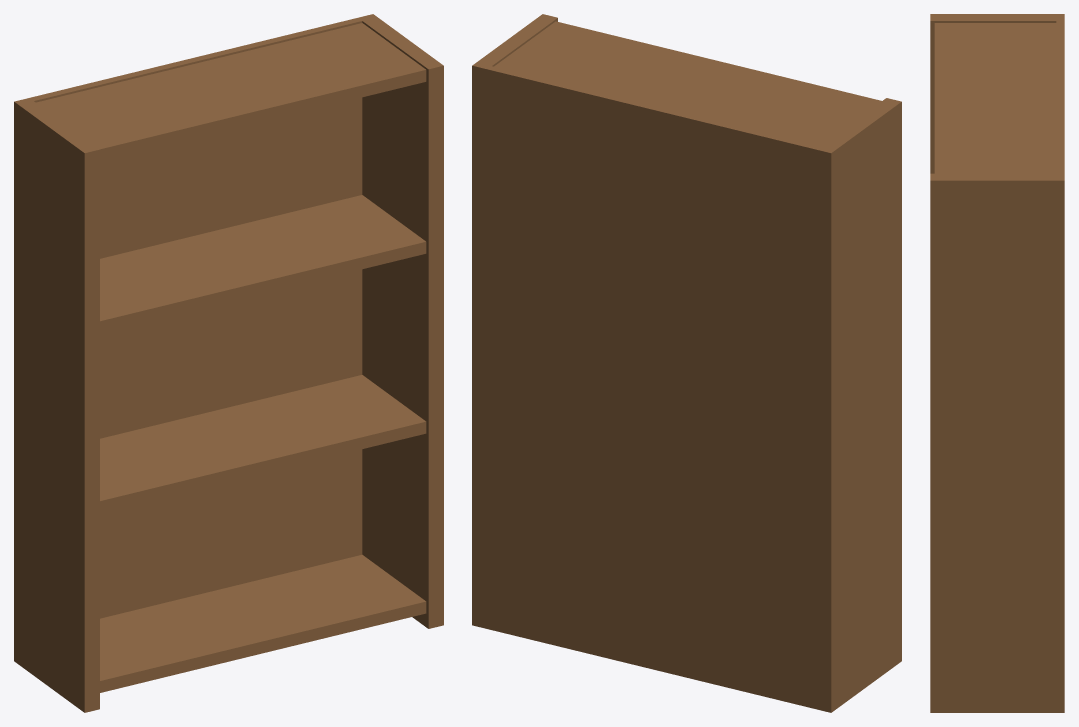
Rendered from deco_shelf_light.glb.
3 renders of one model, left to right at view 1: azimuth 30°, elevation 25°; view 2: azimuth 150°, elevation 25°; view 3: azimuth 270°, elevation 25°, orthographic. The views are drawn at different scales.
Visible parts, largest first — view 1: Part2, Part0, Part1, Part6, Part4, Part3, Part5; view 2: Part2, Part0, Part6, Part1; view 3: Part1, Part6, Part0, Part2.
Boxes of the visible parts, x1,y1,x2,y2 form: Part2: (23, 16, 367, 618); Part0: (14, 98, 99, 712); Part1: (359, 14, 443, 628); Part6: (36, 23, 426, 161); Part4: (100, 375, 426, 512); Part3: (100, 554, 426, 692); Part5: (100, 195, 426, 333); Part2: (479, 64, 827, 710); Part0: (816, 98, 901, 712); Part6: (494, 21, 881, 146); Part1: (472, 14, 557, 628); Part1: (930, 173, 1064, 712); Part6: (934, 23, 1056, 173); Part0: (930, 14, 1064, 173); Part2: (1056, 18, 1064, 176).
Size of the model in its own units: 0.94 by 1.4 by 0.32.
